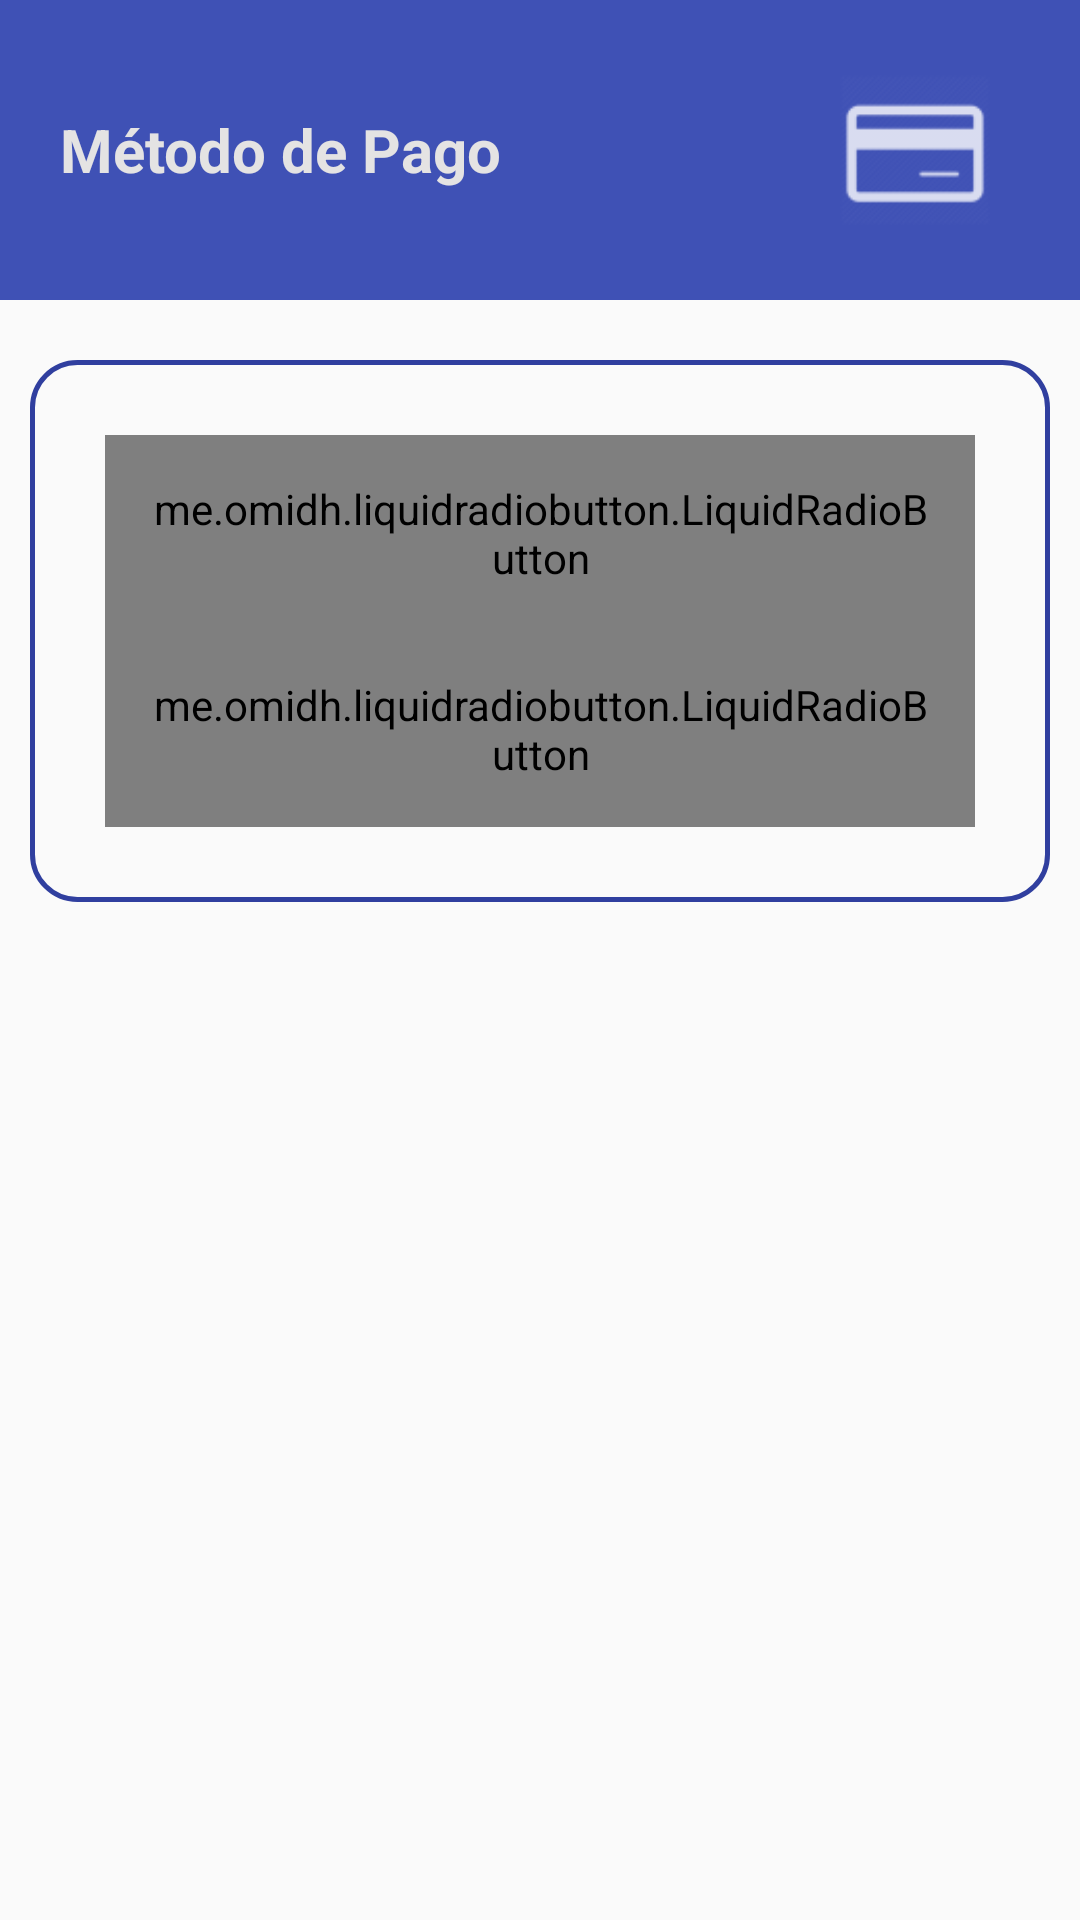

Point at icon controls on the screen. Image size 1080w x 1920h, points as (x=x, y=y).
creditcard: (x=915, y=153)
